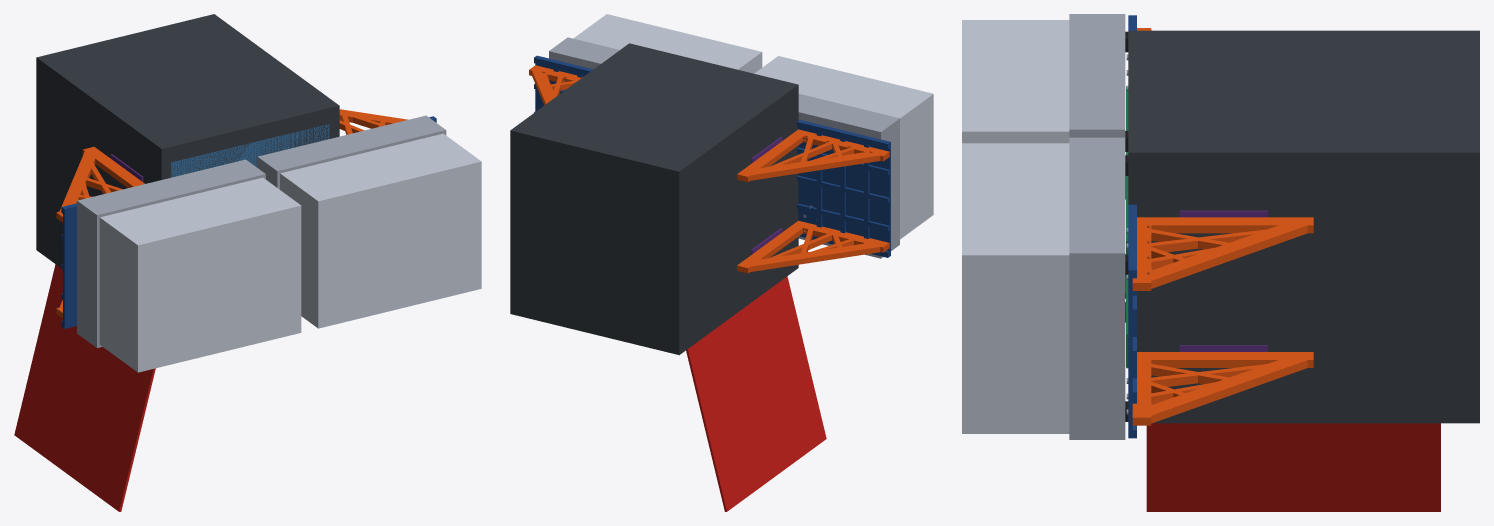
The model's file is .x2d_dual_ams_mount_assembly.step.glb.
3 views of the same model, side by side, from view 1: azimuth 30°, elevation 25°; view 2: azimuth 150°, elevation 25°; view 3: azimuth 270°, elevation 25° (orthographic). The views are drawn at different scales.
Visible parts, largest first — view 1: o1.1, o1.12.2, o1.20.2, o1.4, o1.12.1, o1.20.1, o1.2, o1.9, o1.5, o1.17; view 2: o1.1, o1.4, o1.12.2, o1.5, o1.20.2, o1.6, o1.9, o1.12.1, o1.20.1, o1.17, o1.13; view 3: o1.1, o1.20.2, o1.4, o1.20.1, o1.12.2, o1.17, o1.14, o1.12.1, o1.13, o1.18, o1.15.
Boxes of the visible parts, x1=… form: o1.1: x1=36, y1=14, x2=339, y2=267; o1.12.2: x1=99, y1=177, x2=301, y2=372; o1.20.2: x1=280, y1=133, x2=481, y2=328; o1.4: x1=14, y1=264, x2=155, y2=511; o1.12.1: x1=77, y1=159, x2=265, y2=347; o1.20.1: x1=257, y1=115, x2=446, y2=189; o1.2: x1=171, y1=124, x2=329, y2=177; o1.9: x1=56, y1=146, x2=144, y2=222; o1.5: x1=61, y1=203, x2=76, y2=328; o1.17: x1=339, y1=109, x2=407, y2=134; o1.1: x1=510, y1=43, x2=798, y2=355; o1.4: x1=686, y1=276, x2=826, y2=511; o1.12.2: x1=754, y1=56, x2=933, y2=239; o1.5: x1=797, y1=120, x2=890, y2=257; o1.20.2: x1=573, y1=14, x2=762, y2=73; o1.6: x1=737, y1=220, x2=889, y2=273; o1.9: x1=737, y1=129, x2=889, y2=182; o1.12.1: x1=798, y1=93, x2=899, y2=258; o1.20.1: x1=549, y1=37, x2=619, y2=69; o1.17: x1=529, y1=65, x2=582, y2=105; o1.13: x1=534, y1=55, x2=593, y2=112; o1.1: x1=1128, y1=30, x2=1479, y2=423; o1.20.2: x1=962, y1=143, x2=1069, y2=433; o1.4: x1=1146, y1=423, x2=1440, y2=511; o1.20.1: x1=1069, y1=137, x2=1125, y2=439; o1.12.2: x1=962, y1=20, x2=1069, y2=143; o1.17: x1=1132, y1=217, x2=1313, y2=290; o1.14: x1=1132, y1=352, x2=1313, y2=425; o1.12.1: x1=1069, y1=14, x2=1125, y2=137; o1.13: x1=1128, y1=204, x2=1136, y2=438; o1.18: x1=1179, y1=210, x2=1267, y2=217; o1.15: x1=1179, y1=345, x2=1267, y2=351.
Bounding box in the file's own units: 0.8202 × 0.7569 × 0.704.
